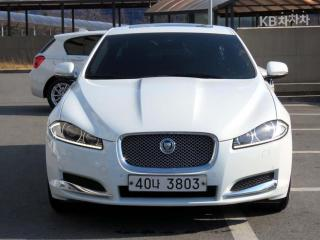0: (183, 177, 193, 191), (143, 176, 152, 190)
3: (193, 176, 201, 190), (166, 178, 175, 190)
4: (135, 177, 144, 190)
8: (175, 177, 183, 190)
plate: (120, 168, 217, 198)
나: (151, 178, 162, 189)
